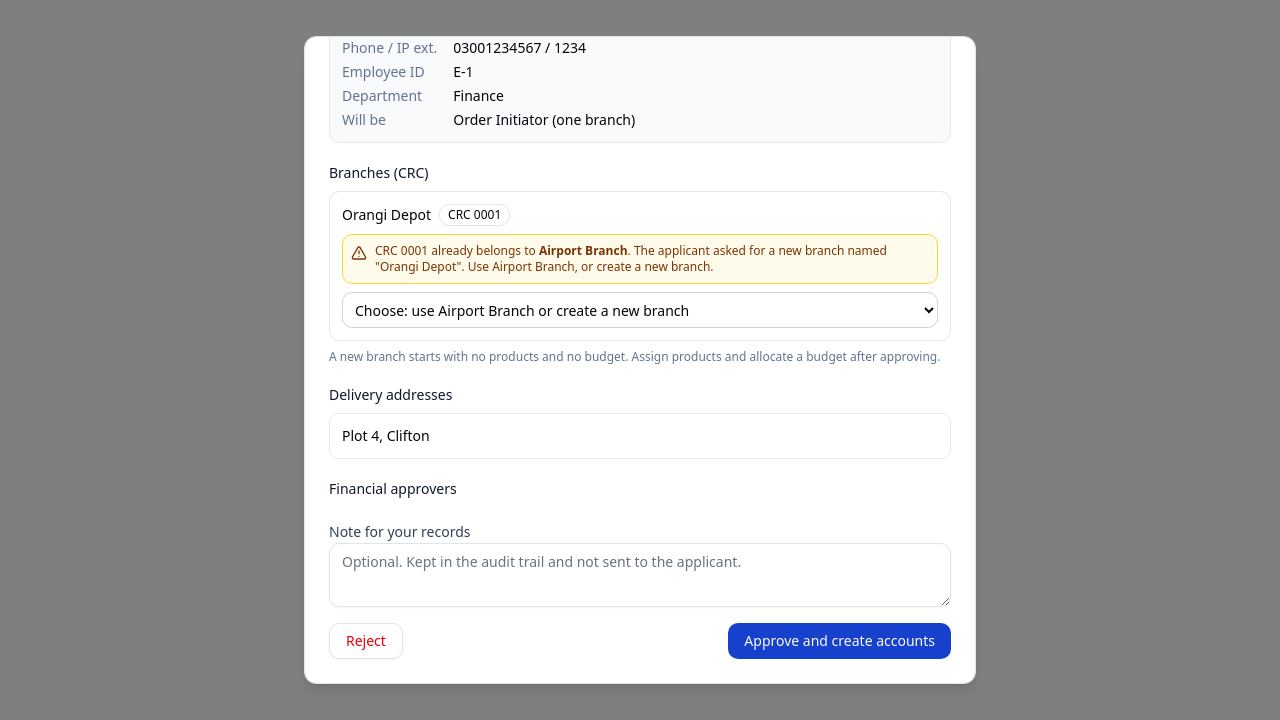
Test case: DepartmentJoinReviewDialog — a CRC an existing branch carries › refuses to approve until Head Office chooses, and sends nothing
(page scrolled)
Expected: the text "Airport Branch" is shown, [539,242,628,259]
Click the button "Approve and create accounts".
click(840, 641)  # box [728,623,951,659]
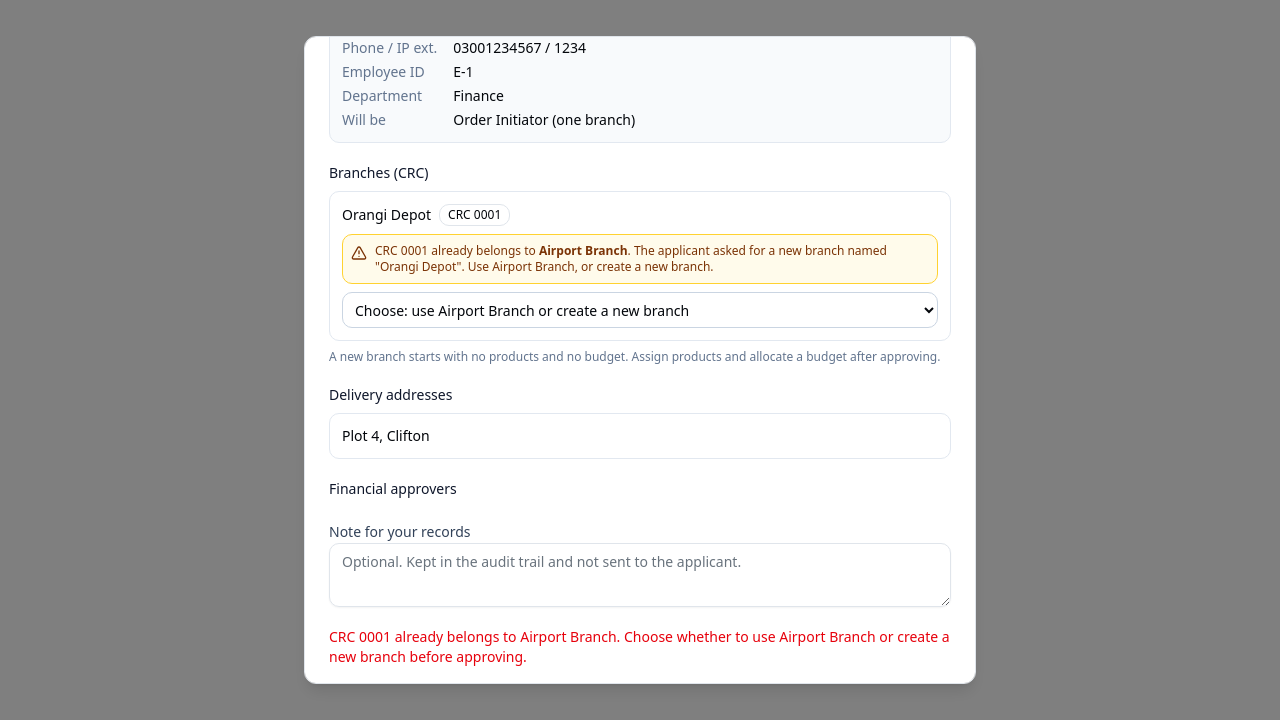
Result: the message shows "CRC 0001 already belongs to Airport Branch. Choose whether to use Airport Branch or create a new branch before approving." at [329,627,950,666]
